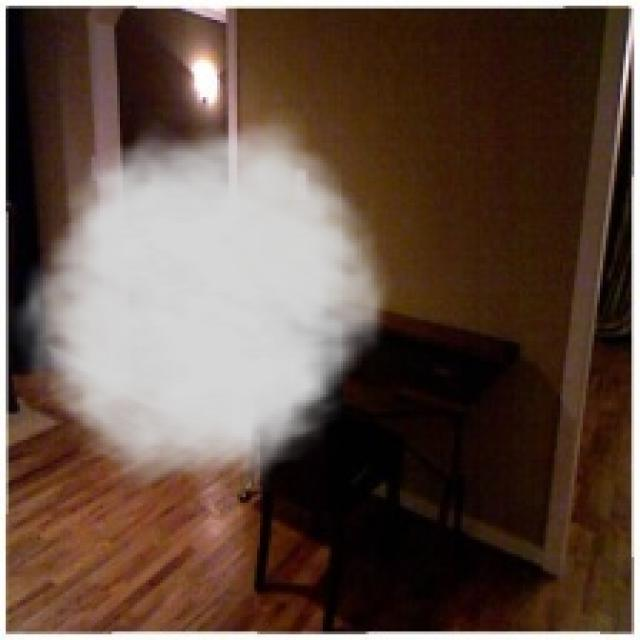Smoke: (6, 106, 403, 492)
